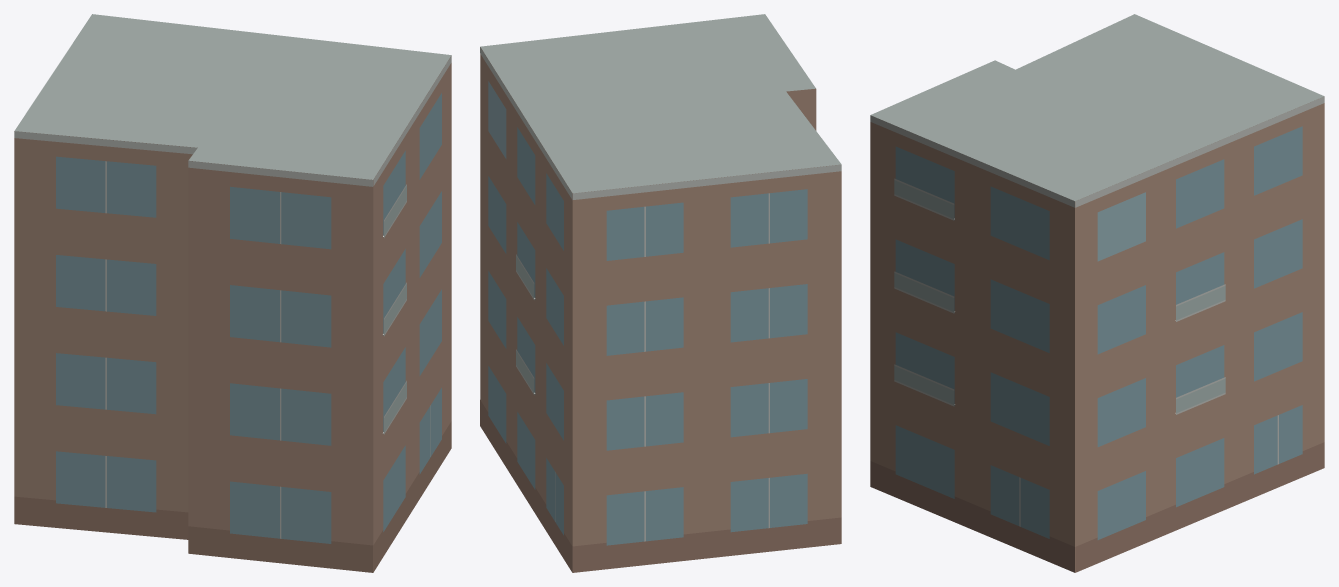
File: survey-upis-32932504.glb
The picture shows the model from 3 angles, left to right: view 1: azimuth 30°, elevation 25°; view 2: azimuth 150°, elevation 25°; view 3: azimuth 270°, elevation 25°; orthographic projection. The views are drawn at different scales.
Visible parts, largest first — view 1: survey-upis-32932504.tmp; view 2: survey-upis-32932504.tmp; view 3: survey-upis-32932504.tmp.
Boxes of the visible parts, x1,y1,x2,y2 form: survey-upis-32932504.tmp: [14, 14, 451, 572]; survey-upis-32932504.tmp: [480, 14, 841, 572]; survey-upis-32932504.tmp: [870, 14, 1324, 572].
Bounding box in the file's own units: 14.81 × 13.7 × 15.19.
